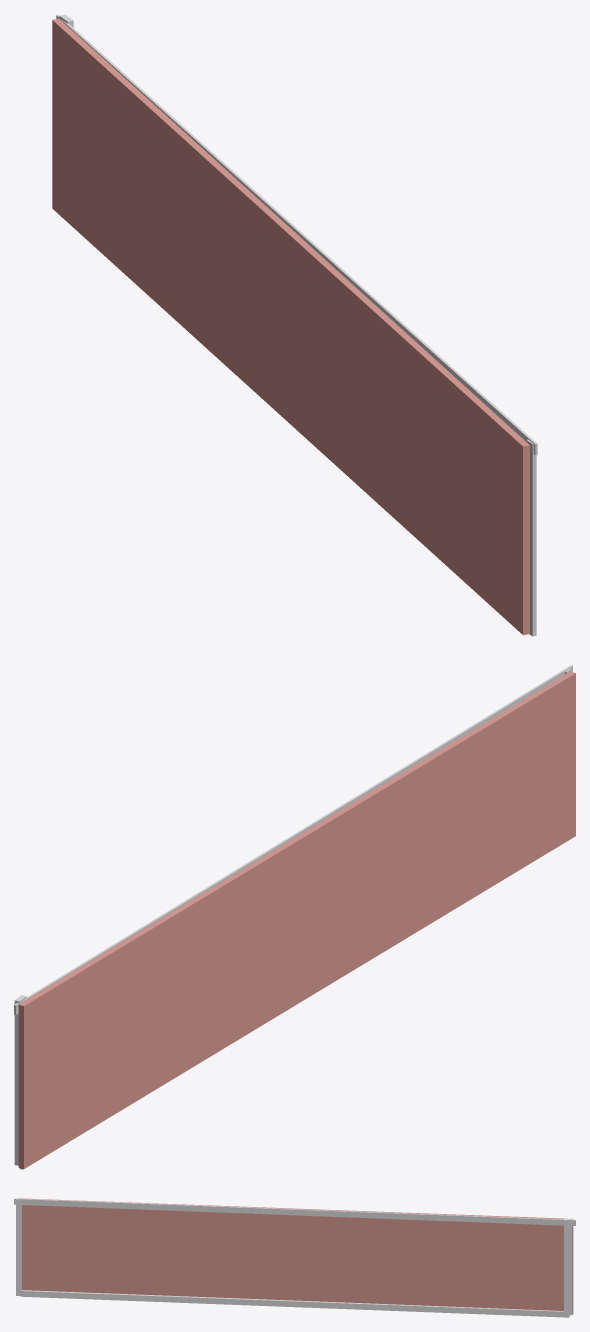
Rendered from WallLeft.fbx.
3 renders of one model, top to bottom at view 1: azimuth 30°, elevation 25°; view 2: azimuth 150°, elevation 25°; view 3: azimuth 270°, elevation 25°, orthographic. The views are drawn at different scales.
Parts seen in each view (by area): view 1: Cube.002, Cube, Cube.010; view 2: Cube.002, Cube, Cube.014; view 3: Cube.002, Cube.003, Cube, Cube.014, Cube.010.
Boxes of the visible parts, left/top/right/bottom form: Cube.002: left=52, top=18, right=529, bottom=635; Cube: left=56, top=14, right=537, bottom=455; Cube.010: left=526, top=439, right=536, bottom=636; Cube.002: left=18, top=671, right=575, bottom=1168; Cube: left=14, top=665, right=572, bottom=1015; Cube.014: left=14, top=995, right=26, bottom=1165; Cube.002: left=18, top=1198, right=573, bottom=1314; Cube.003: left=20, top=1290, right=569, bottom=1317; Cube: left=14, top=1198, right=575, bottom=1225; Cube.014: left=564, top=1218, right=572, bottom=1315; Cube.010: left=16, top=1199, right=21, bottom=1295.
Size of the model in its own units: 373 by 729 by 3770.
